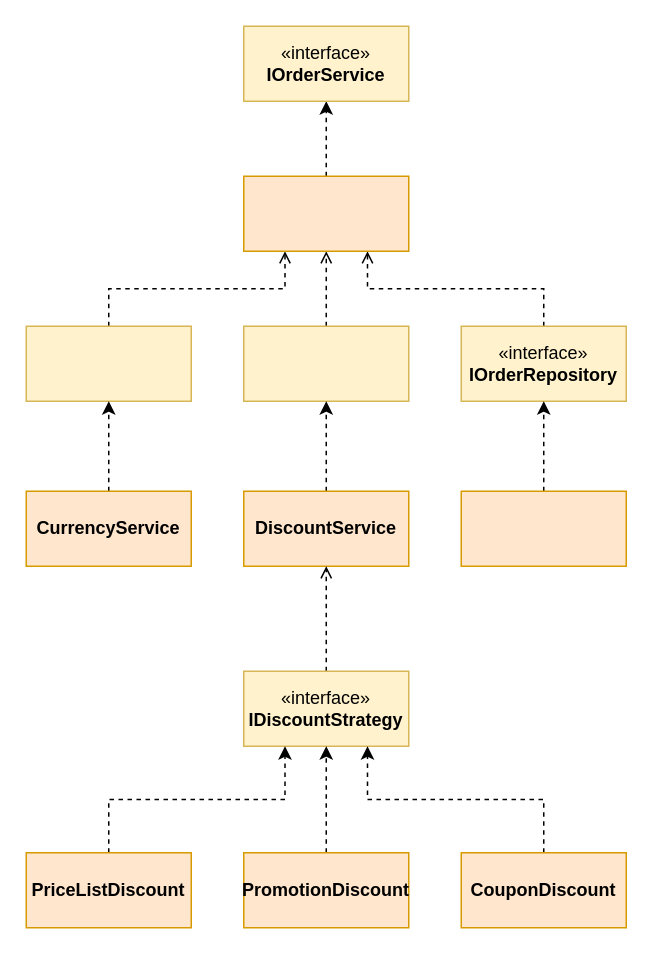
The diagram is 653 pixels wide and 954 high, and some of its shapes have lost their labels. The shapes that lost their labels are listed below. From the top down, each one's box as (x1, y1, x2, y2) in pixels, then its label:
(242, 175, 409, 251): OrderService
(25, 325, 191, 401): «interface» ICurrencyService
(242, 325, 409, 401): «interface» IDiscountService
(460, 490, 626, 566): OrderRepository
